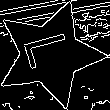L_E: (20, 32, 80, 76)
